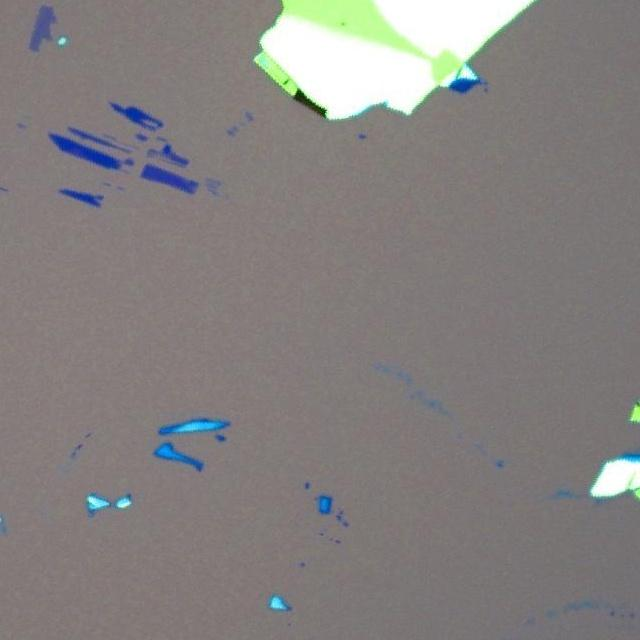monolayer-eWW4: (27, 3, 59, 51)
